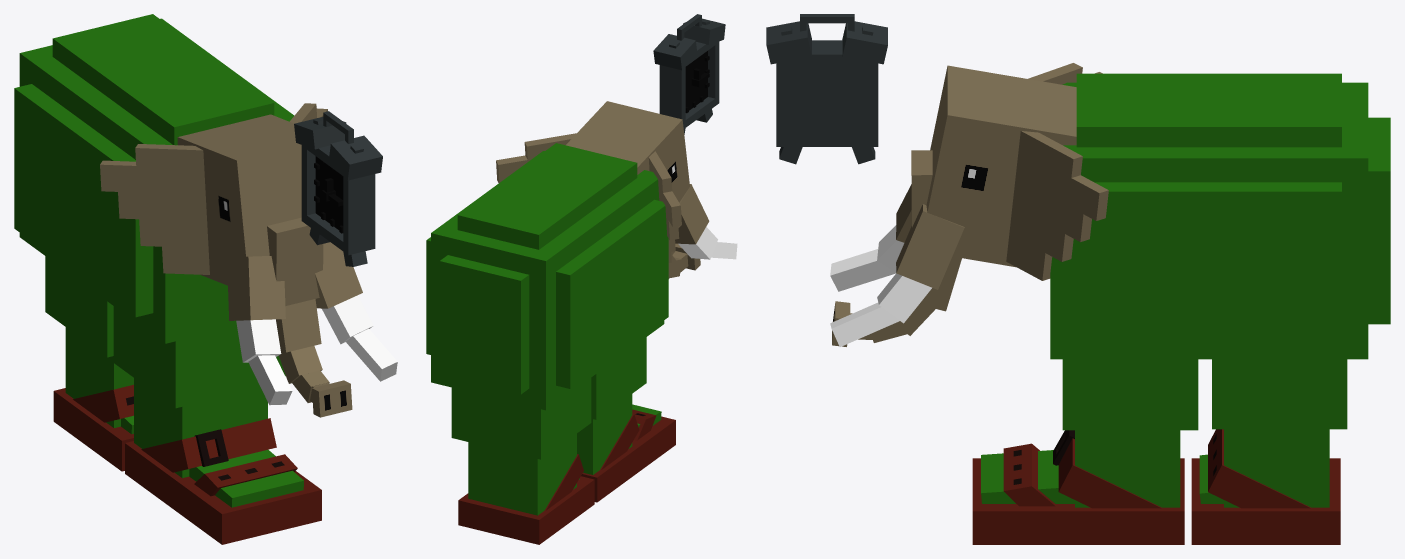
File: Lirilì Larilà.obj
3 renders of one model, left to right at view 1: azimuth 30°, elevation 25°; view 2: azimuth 150°, elevation 25°; view 3: azimuth 270°, elevation 25°, orthographic. The views are drawn at different scales.
Parts seen in each view (by area): view 1: Cube0021, Cube0011, Cube0031, Cube0051, Cube0311, Cube0041; view 2: Cube0021, Cube0011, Cube0031, Cube0051, Cube0311; view 3: Cube0021, Cube0011, Cube0031, Cube0051.
Boxes of the visible parts, x1,y1,x2,y2 form: Cube0021: (14, 14, 303, 507); Cube0011: (100, 103, 397, 417); Cube0031: (53, 384, 321, 544); Cube0051: (294, 111, 382, 266); Cube0311: (314, 156, 343, 233); Cube0041: (126, 396, 284, 480); Cube0021: (426, 143, 668, 515); Cube0011: (496, 101, 737, 278); Cube0031: (458, 409, 675, 544); Cube0051: (653, 14, 725, 134); Cube0311: (685, 51, 709, 113); Cube0021: (981, 73, 1390, 507); Cube0011: (830, 63, 1108, 346); Cube0031: (972, 429, 1340, 544); Cube0051: (766, 14, 887, 164).
Bounding box in the file's own units: 3.88 × 7.5 × 8.43.
Materials: 6 (1 with a texture image).
